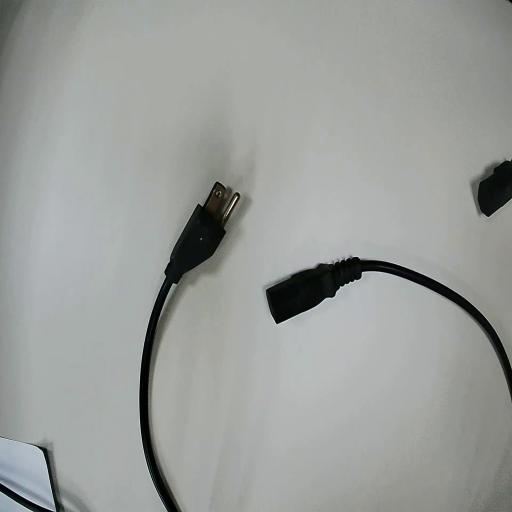wire: (267, 258, 511, 394), (140, 183, 228, 511)
